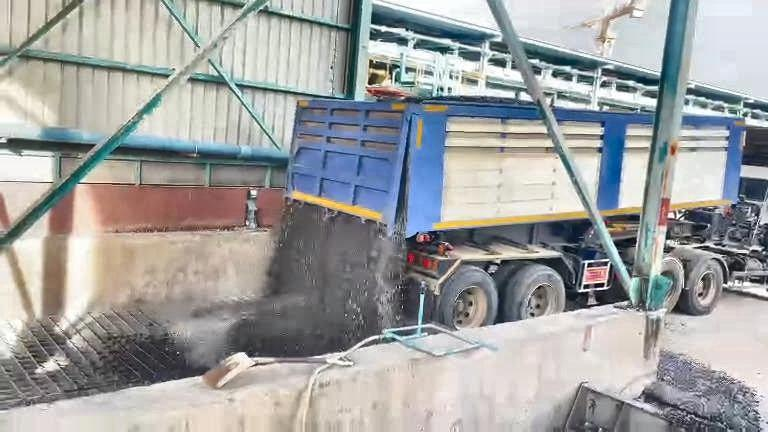gravel: (194, 204, 405, 364), (643, 351, 765, 431)
